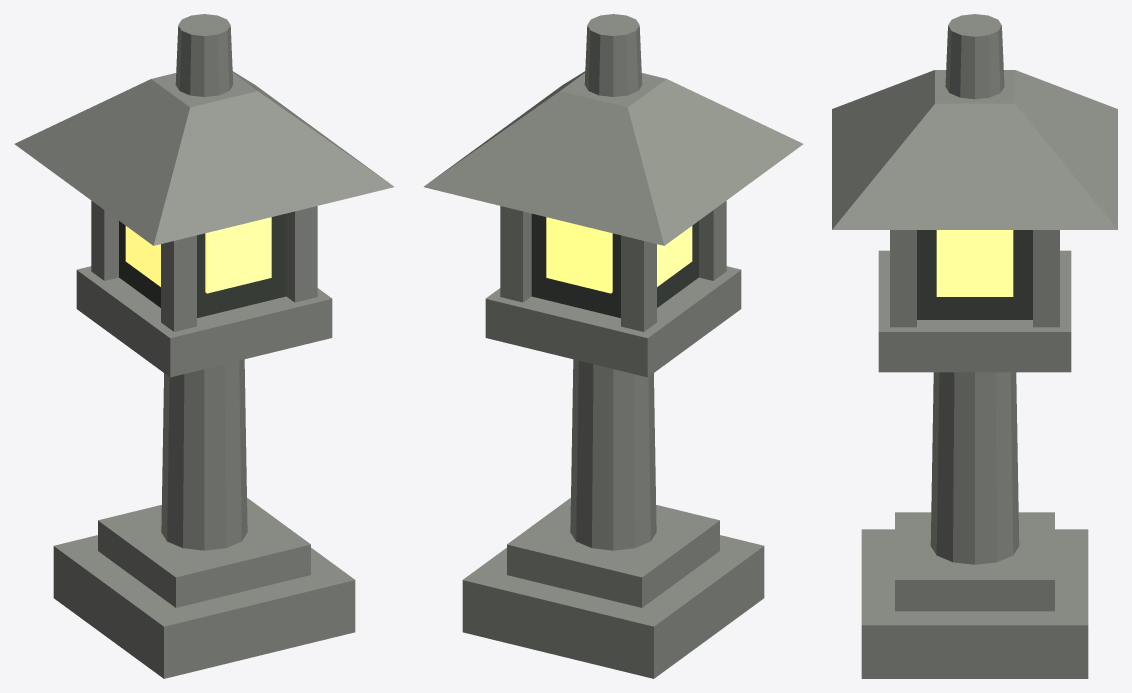
The model's file is stone-lantern.glb.
The picture shows the model from 3 angles, left to right: view 1: azimuth 30°, elevation 25°; view 2: azimuth 150°, elevation 25°; view 3: azimuth 270°, elevation 25°; orthographic projection. The views are drawn at different scales.
Visible parts, largest first — view 1: stone-lantern; view 2: stone-lantern; view 3: stone-lantern.
Part boxes in pixels (left/top/right/bottom): stone-lantern: left=14, top=14, right=393, bottom=678; stone-lantern: left=424, top=14, right=803, bottom=678; stone-lantern: left=832, top=14, right=1117, bottom=678.
Bounding box in the file's own units: 1.16 × 2.71 × 1.16.
